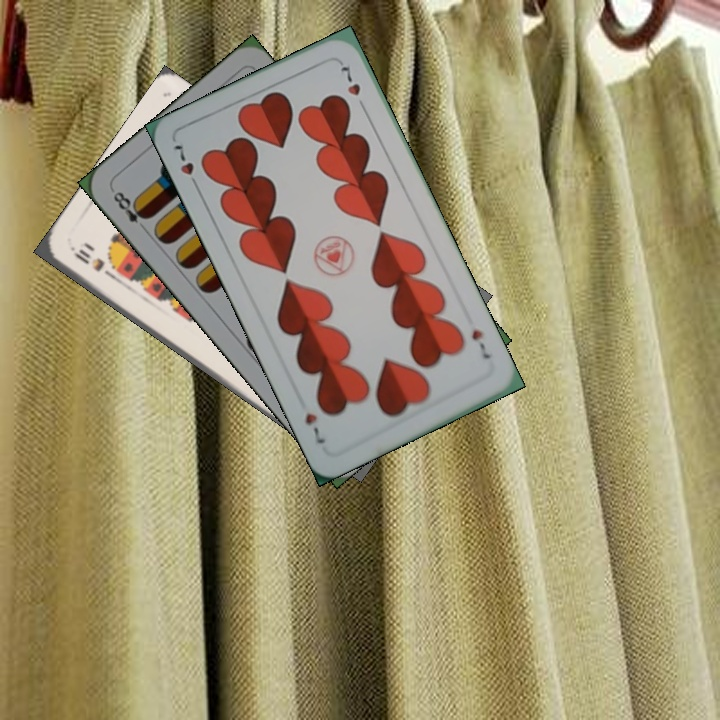E8: (109, 187, 152, 235)
H7: (168, 140, 203, 193), (467, 326, 493, 362)
S10: (66, 242, 118, 282)
